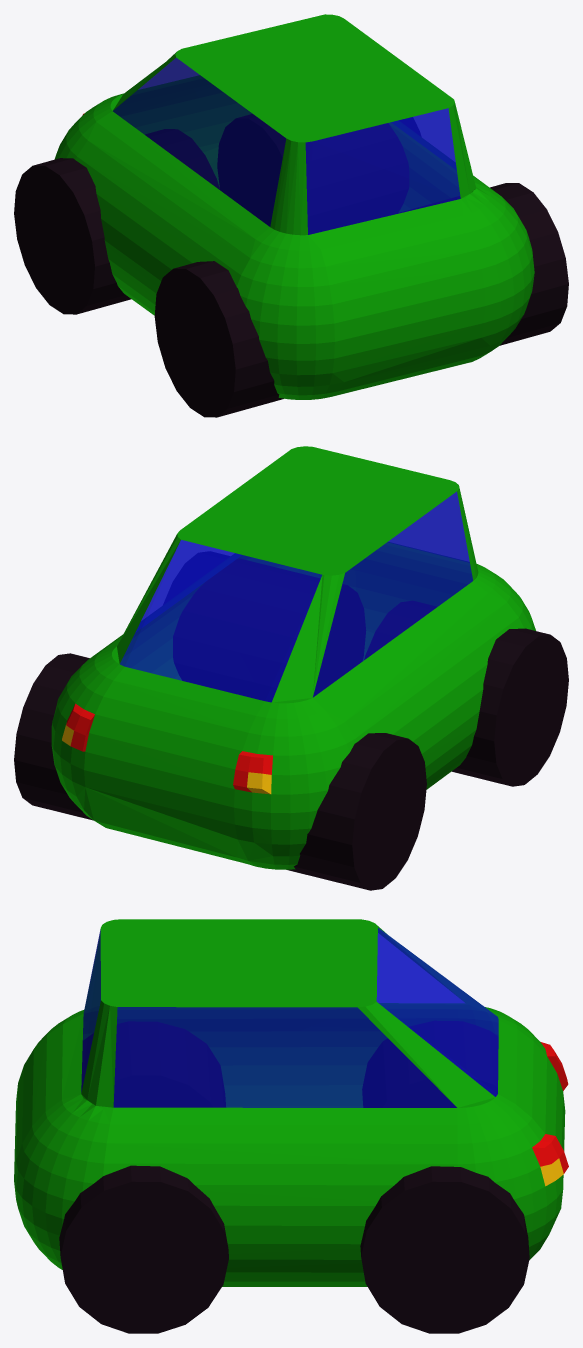
Rendered from carrogreen.dae.
The picture shows the model from 3 angles, top to bottom: view 1: azimuth 30°, elevation 25°; view 2: azimuth 150°, elevation 25°; view 3: azimuth 270°, elevation 25°; orthographic projection. The views are drawn at different scales.
Parts seen in each view (by area): view 1: Sphere; view 2: Sphere; view 3: Sphere.
Part boxes in pixels (left/top/right/bottom): Sphere: left=14, top=14, right=568, bottom=417; Sphere: left=14, top=446, right=568, bottom=890; Sphere: left=14, top=919, right=568, bottom=1333.
Size of the model in its own units: 3.96 by 5.16 by 2.9.
